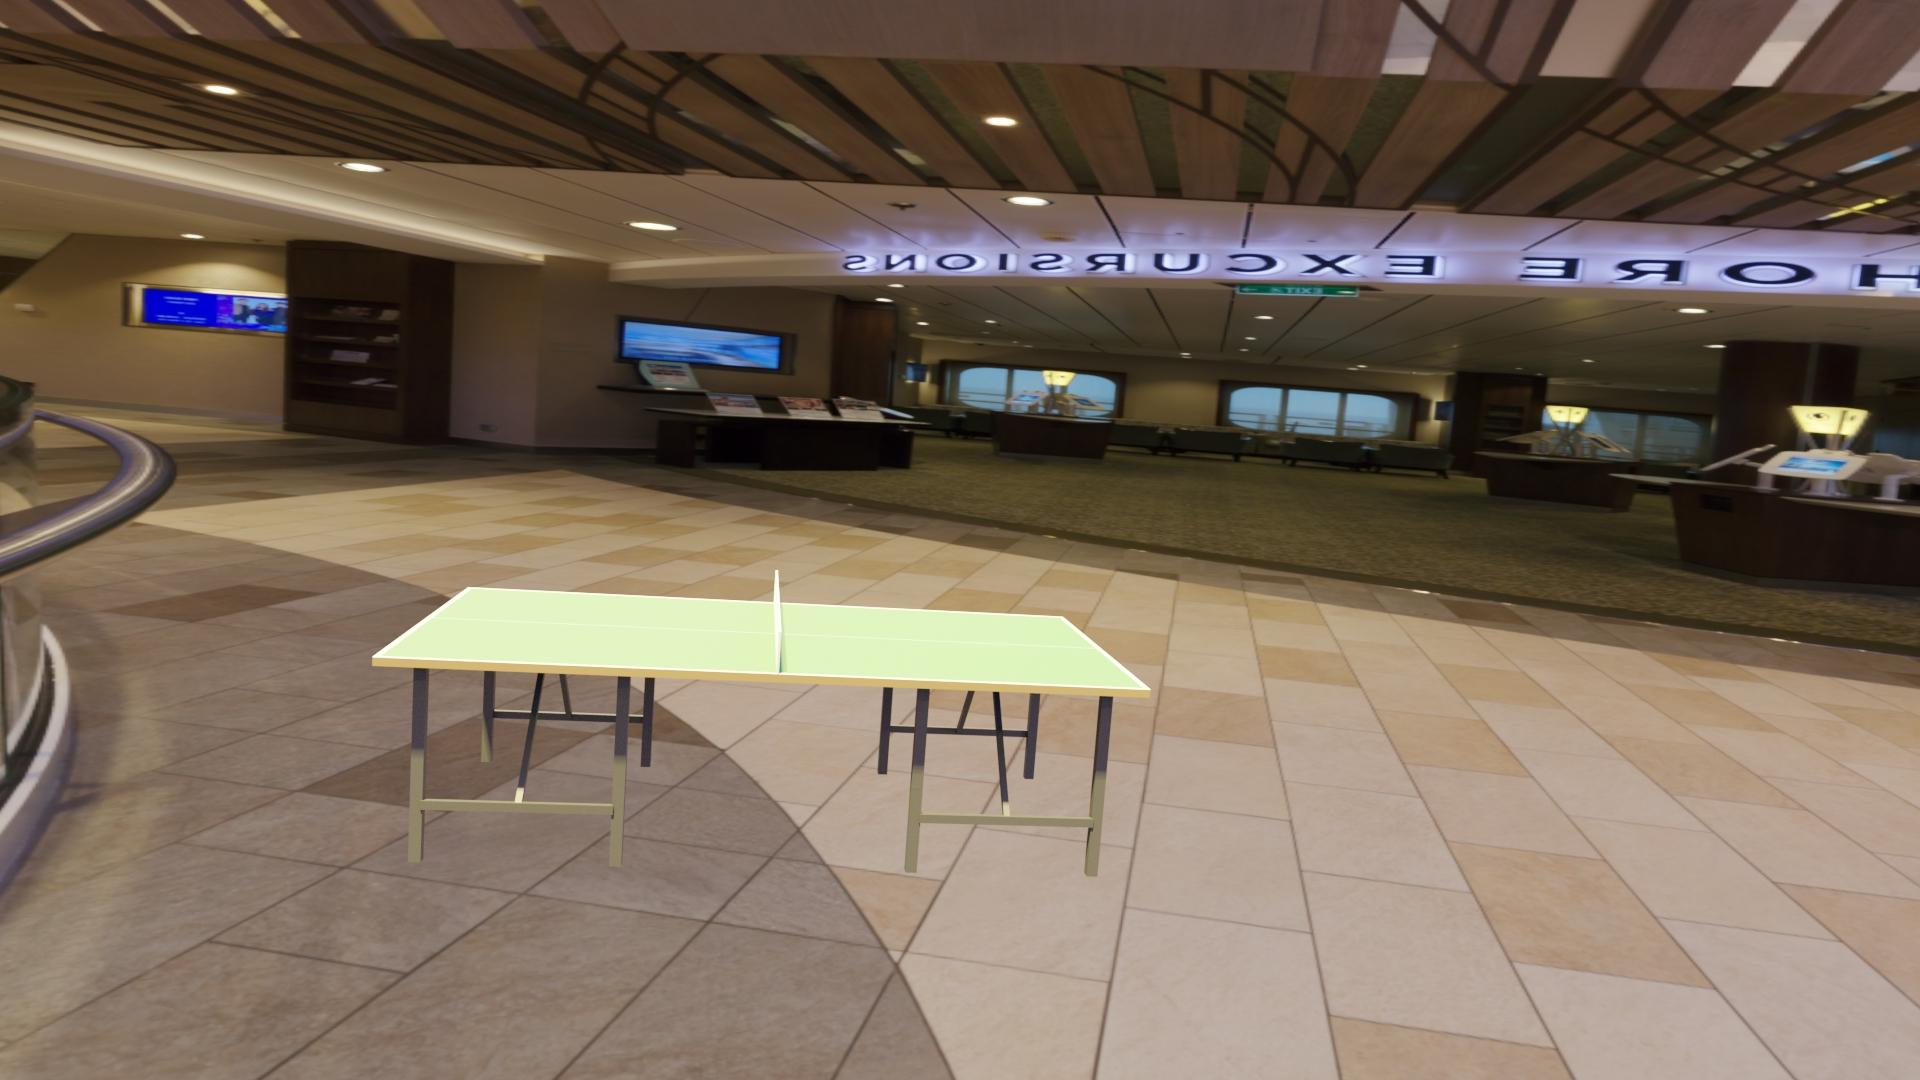table: (380, 588, 1144, 688)
